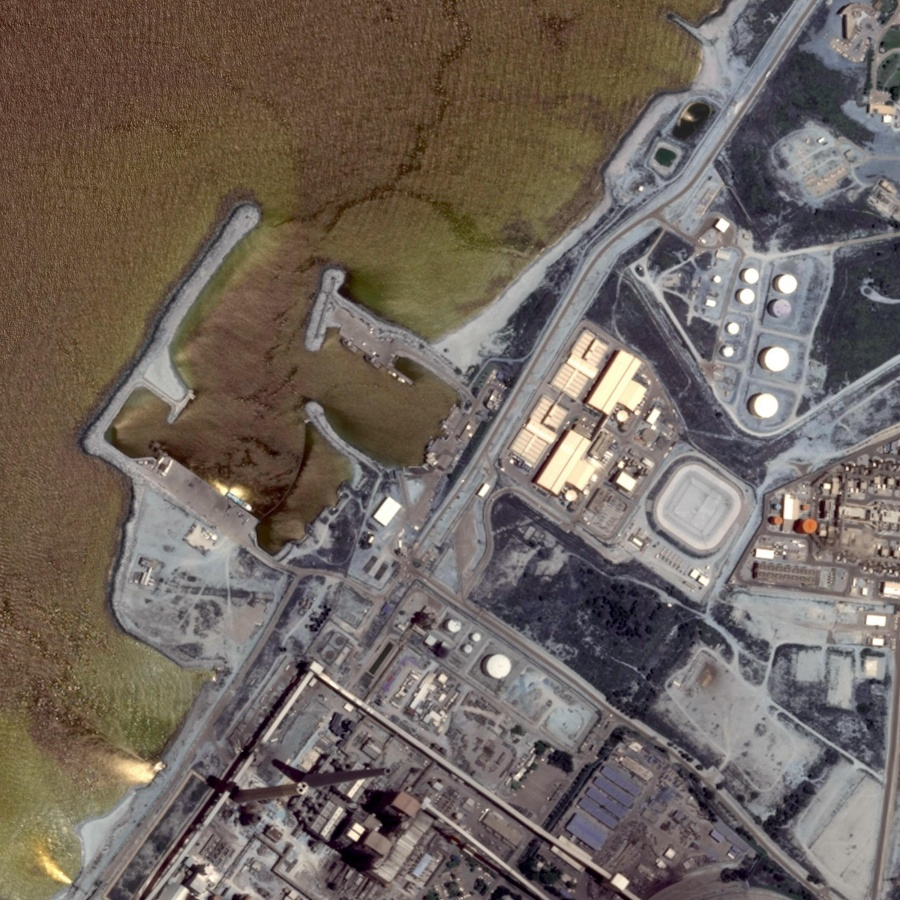PowerPlant: (638, 217, 870, 430)
